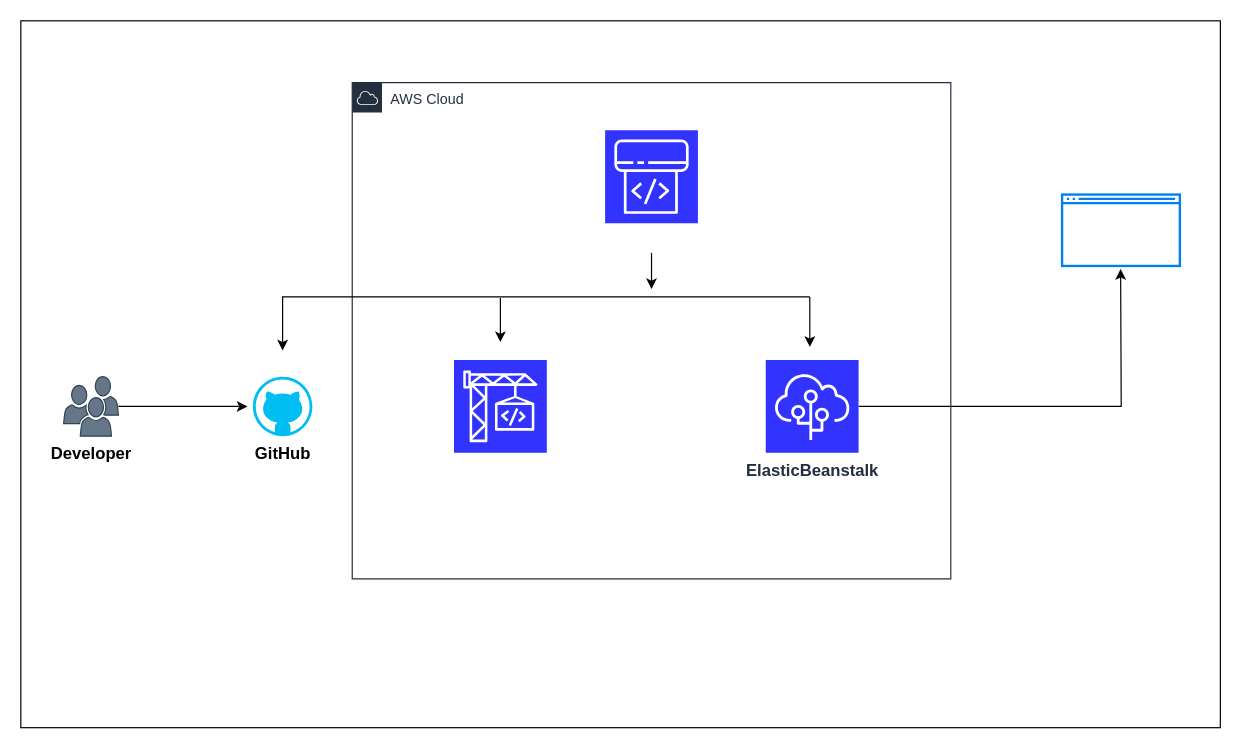
The diagram is 1241 pixels wide and 749 high, and some of its shapes have lost their labels. Here are the shapes that lost their labels. From the top down, the centre of each, then its label:
[651,176]: CodePipeline
[500,406]: CodeBuild
